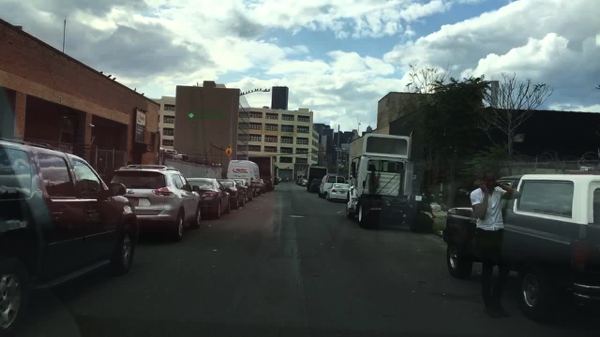bus: (226, 161, 261, 198)
car: (1, 137, 141, 334), (442, 171, 599, 320), (110, 163, 203, 242), (185, 177, 231, 219), (217, 178, 247, 209), (318, 173, 346, 200), (325, 183, 351, 205), (232, 178, 254, 201), (260, 179, 268, 193), (297, 177, 305, 186), (301, 178, 308, 187), (275, 176, 282, 184), (282, 176, 288, 183), (278, 176, 285, 181), (289, 177, 294, 183)
person: (468, 163, 523, 321)
traffic sign: (225, 146, 232, 155)
truck: (346, 130, 434, 231), (248, 155, 277, 191), (305, 165, 328, 191)
